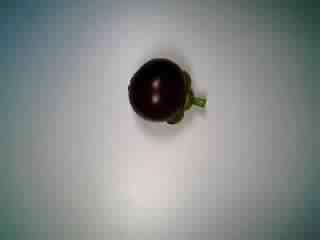mangosteen: (125, 56, 208, 127)
